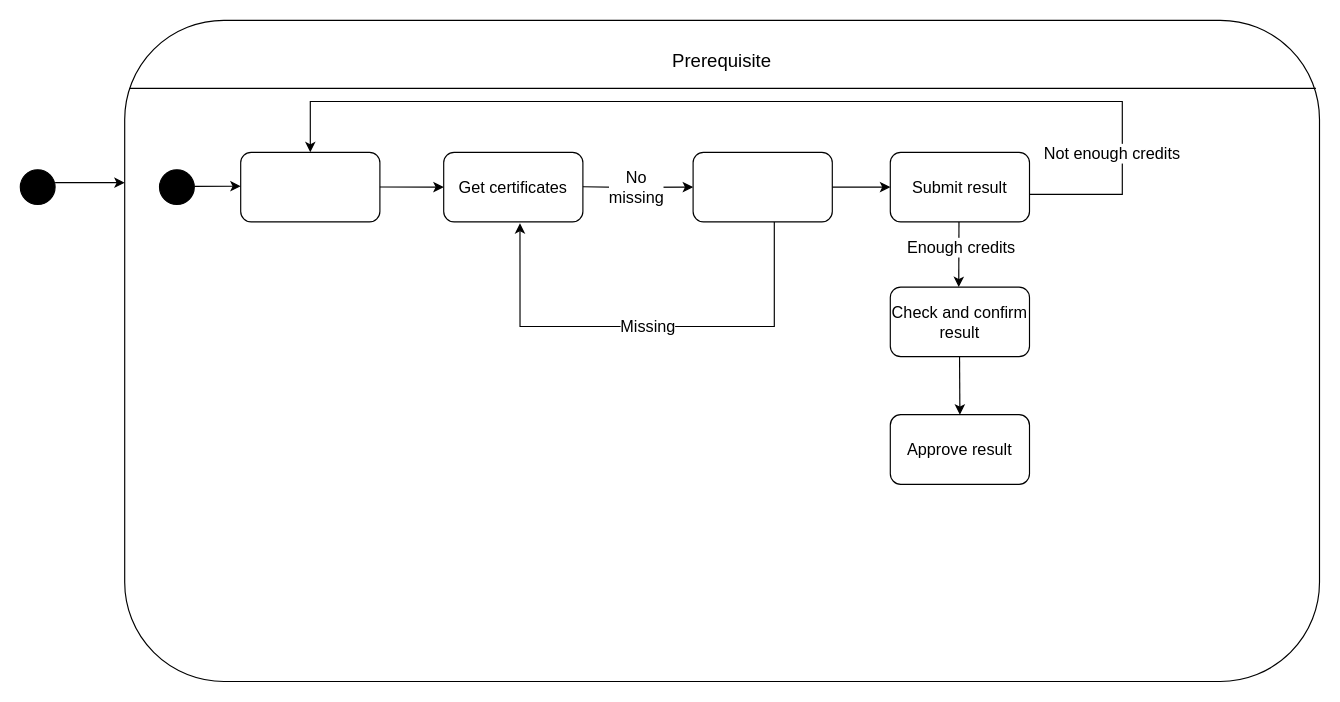
Some shapes in this 1340 by 702 pixel diagram are drawn without their labels. Here are the shapes that lost their labels. From the top down, the box of each, then its label:
(240, 151, 380, 222): Save credits
(692, 151, 832, 222): Save certificate information
